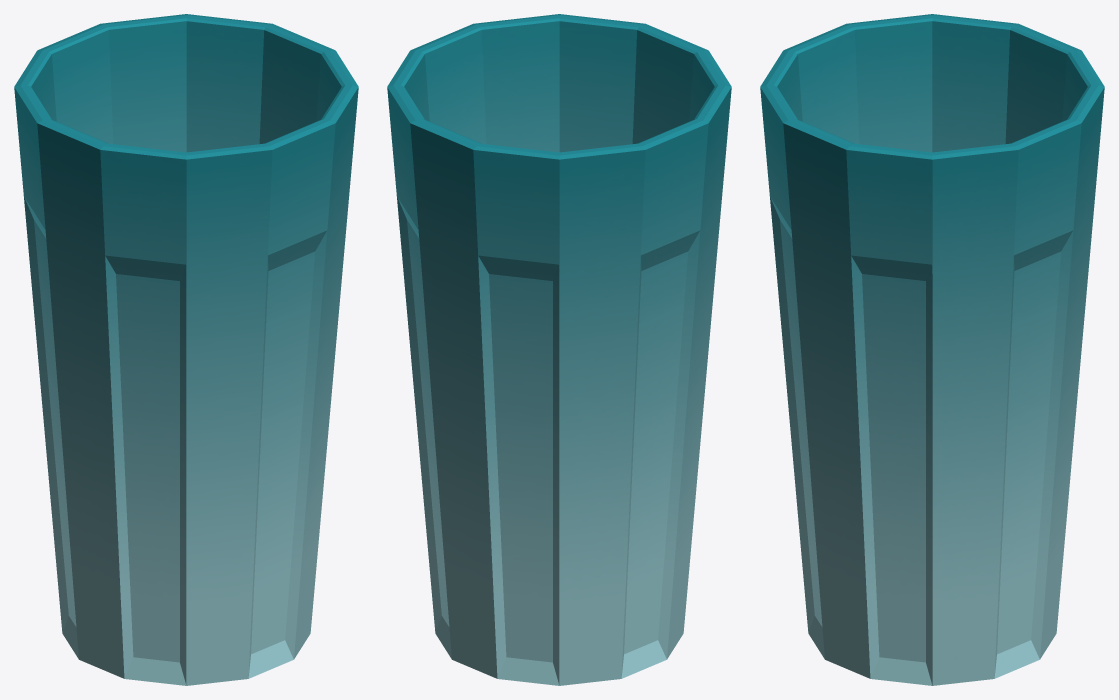
Rendered from Glass.glb.
3 views of the same model, side by side, from view 1: azimuth 30°, elevation 25°; view 2: azimuth 150°, elevation 25°; view 3: azimuth 270°, elevation 25° (orthographic).
Parts seen in each view (by area): view 1: Glass; view 2: Glass; view 3: Glass.
Boxes of the visible parts, bbox=[...] form: Glass: bbox=[14, 14, 358, 685]; Glass: bbox=[387, 14, 731, 685]; Glass: bbox=[760, 14, 1104, 685].
Bounding box in the file's own units: 0.111 × 0.1948 × 0.111.
1 material, 1 textured.
